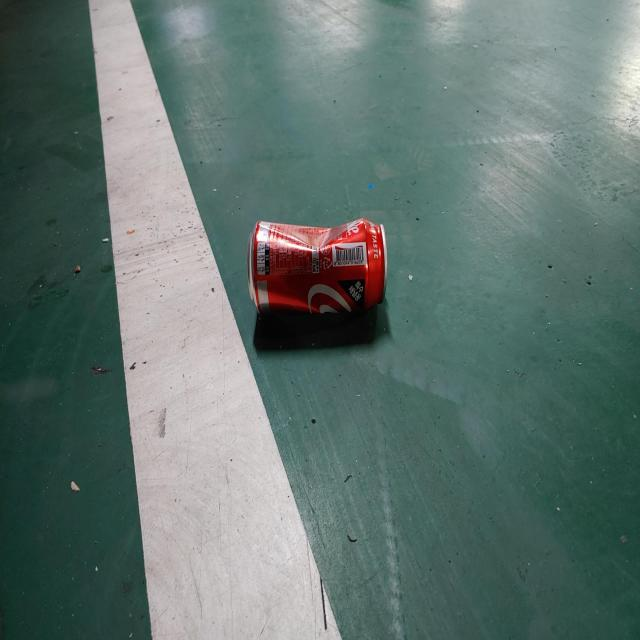can: (247, 218, 388, 315)
